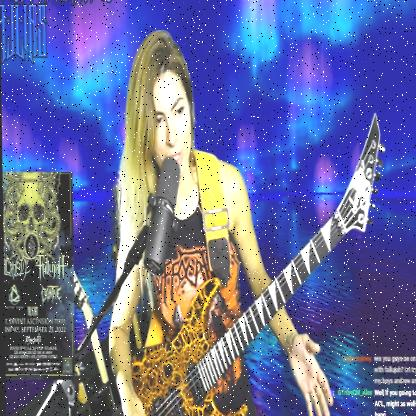streamer: (103, 29, 332, 416)
